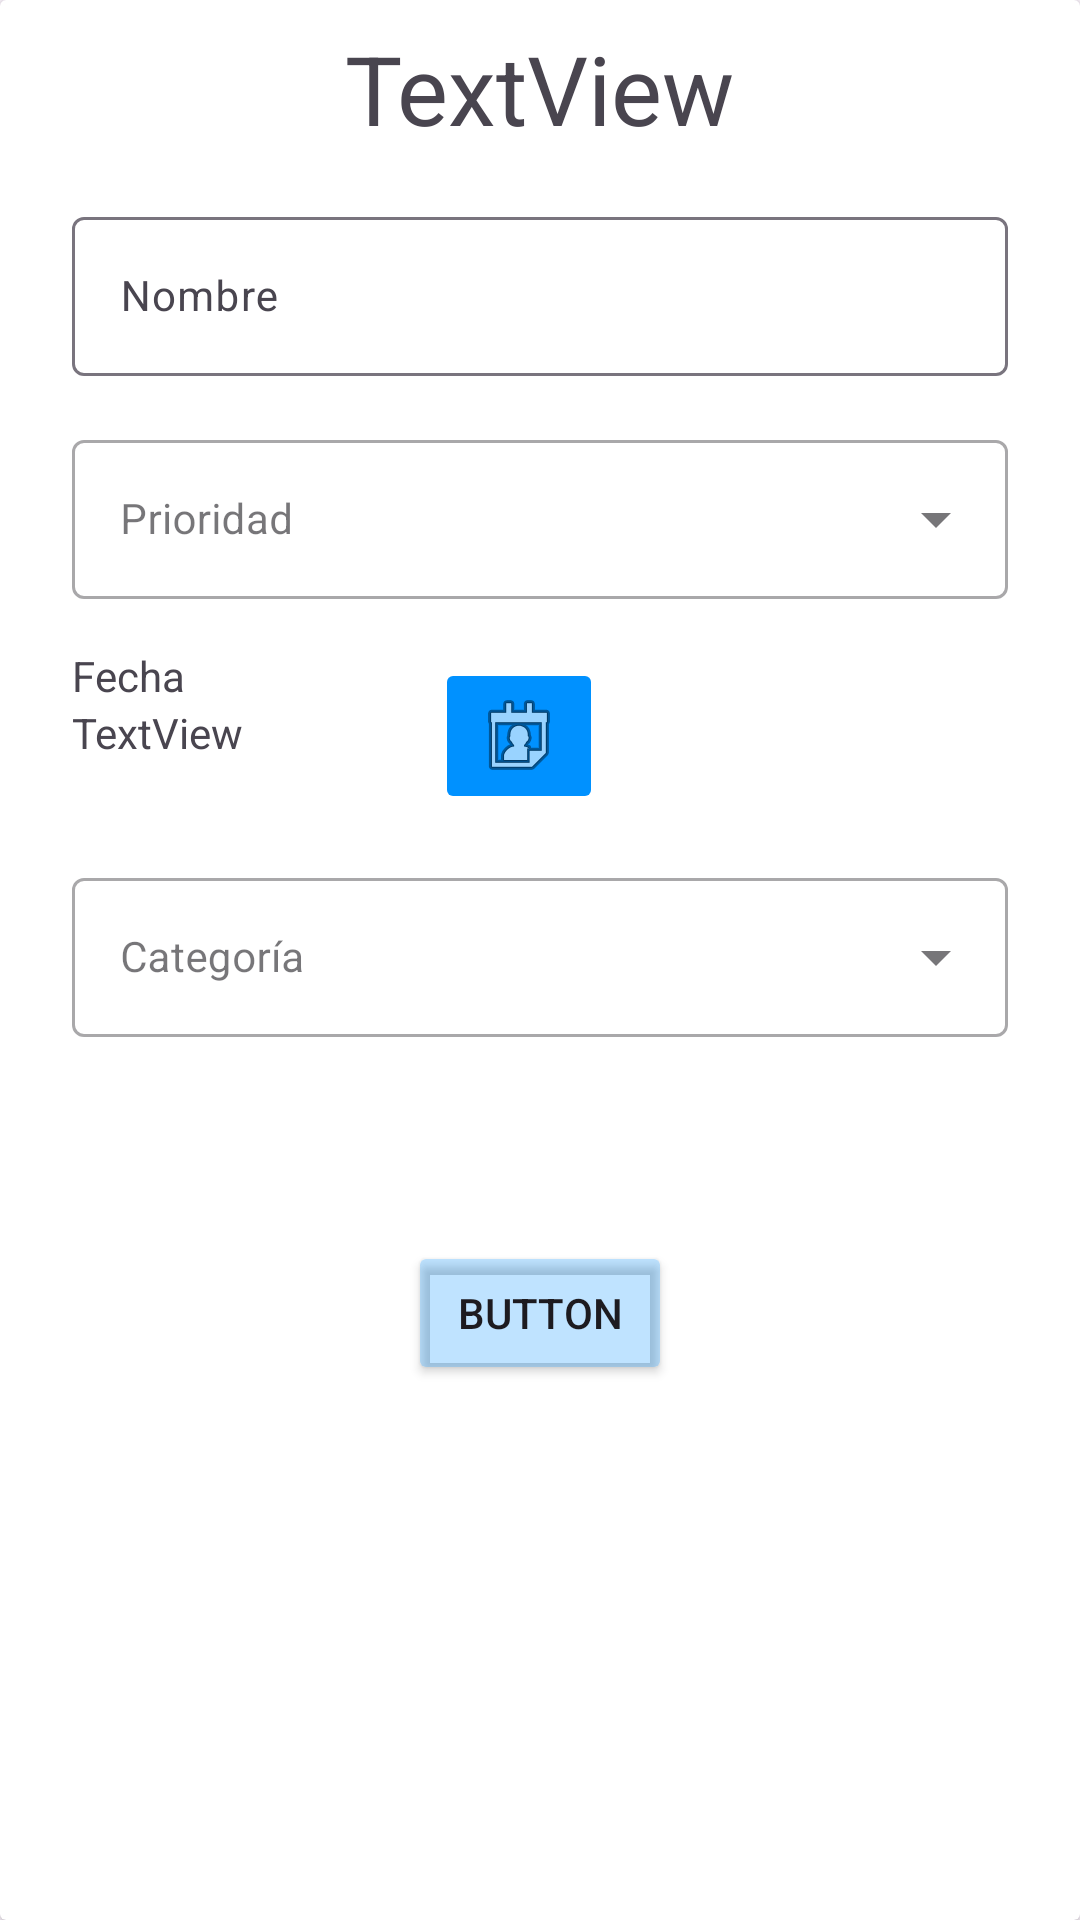

Named icons in this screenshot (1080x1920) and their centers, [x,y]:
calendar: [519,736]
